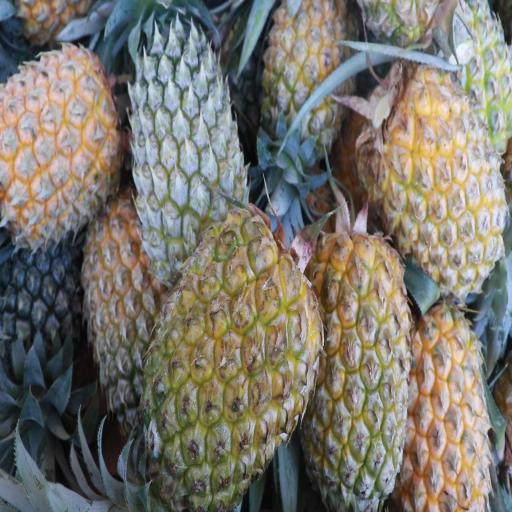------------------------------: (82, 211, 172, 424), (263, 0, 353, 138)
Pineapple - v8 v1: (154, 214, 318, 508), (303, 216, 412, 498), (376, 68, 507, 271), (0, 45, 121, 234), (411, 294, 494, 510)
